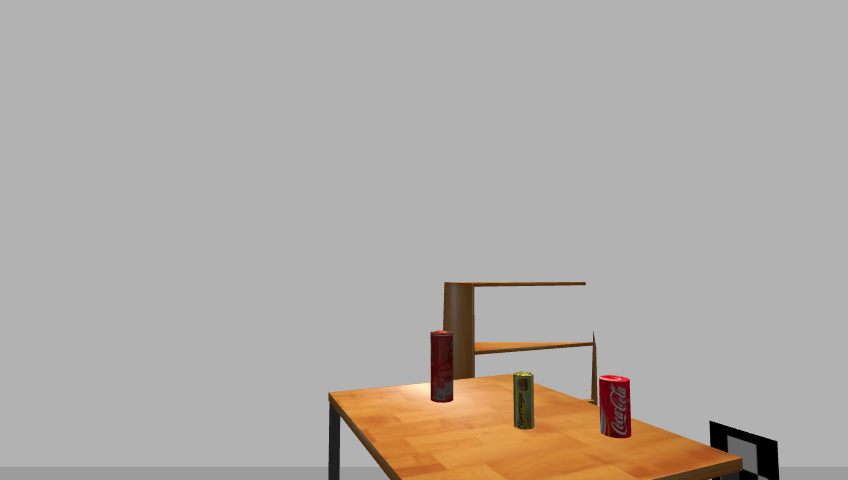aruco marker: (703, 420, 786, 480)
biscuits pack: (512, 372, 535, 431)
bookshelf: (438, 277, 600, 444)
coke can: (597, 376, 632, 438)
dinner table: (319, 376, 750, 480)
pringles can: (428, 331, 455, 404)
